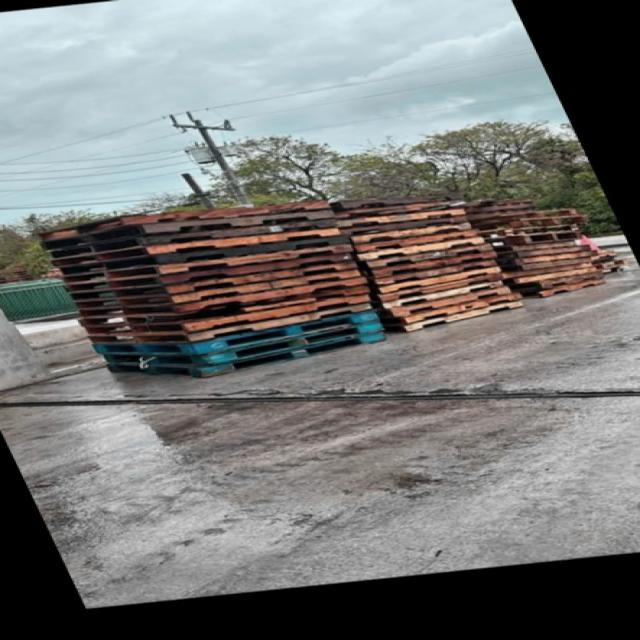non-igps: (89, 306, 387, 360), (97, 317, 389, 371), (32, 195, 339, 246), (55, 240, 362, 290), (36, 206, 343, 256), (52, 231, 364, 280), (42, 215, 346, 265), (101, 328, 393, 380), (72, 282, 382, 330), (58, 248, 361, 297), (83, 298, 378, 348), (48, 224, 348, 273), (73, 274, 374, 321), (79, 291, 378, 338), (64, 258, 366, 304), (66, 265, 365, 310), (374, 290, 528, 330), (378, 298, 530, 336), (369, 284, 517, 322), (366, 277, 506, 314), (366, 272, 508, 308), (363, 248, 502, 282), (376, 264, 508, 297), (369, 257, 502, 288), (362, 241, 499, 271), (354, 234, 490, 264), (351, 227, 485, 256), (326, 190, 464, 217), (336, 213, 473, 239), (330, 206, 472, 231), (346, 221, 476, 247), (331, 198, 471, 222), (466, 205, 582, 228), (506, 269, 608, 295), (498, 264, 600, 289), (468, 213, 594, 233), (492, 248, 604, 270), (492, 243, 596, 265), (516, 277, 611, 301), (472, 222, 582, 242), (496, 253, 596, 274), (497, 261, 596, 282), (481, 230, 585, 249), (489, 238, 580, 257), (461, 193, 544, 213), (462, 205, 540, 224)
